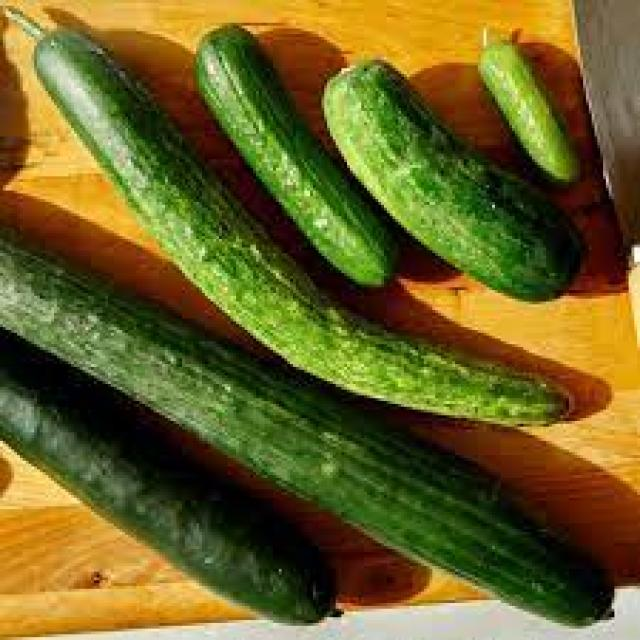Pickle: (1, 233, 560, 614), (22, 21, 559, 417), (0, 331, 331, 622), (322, 62, 581, 299), (195, 25, 398, 286), (479, 42, 578, 182), (464, 536, 595, 623)
